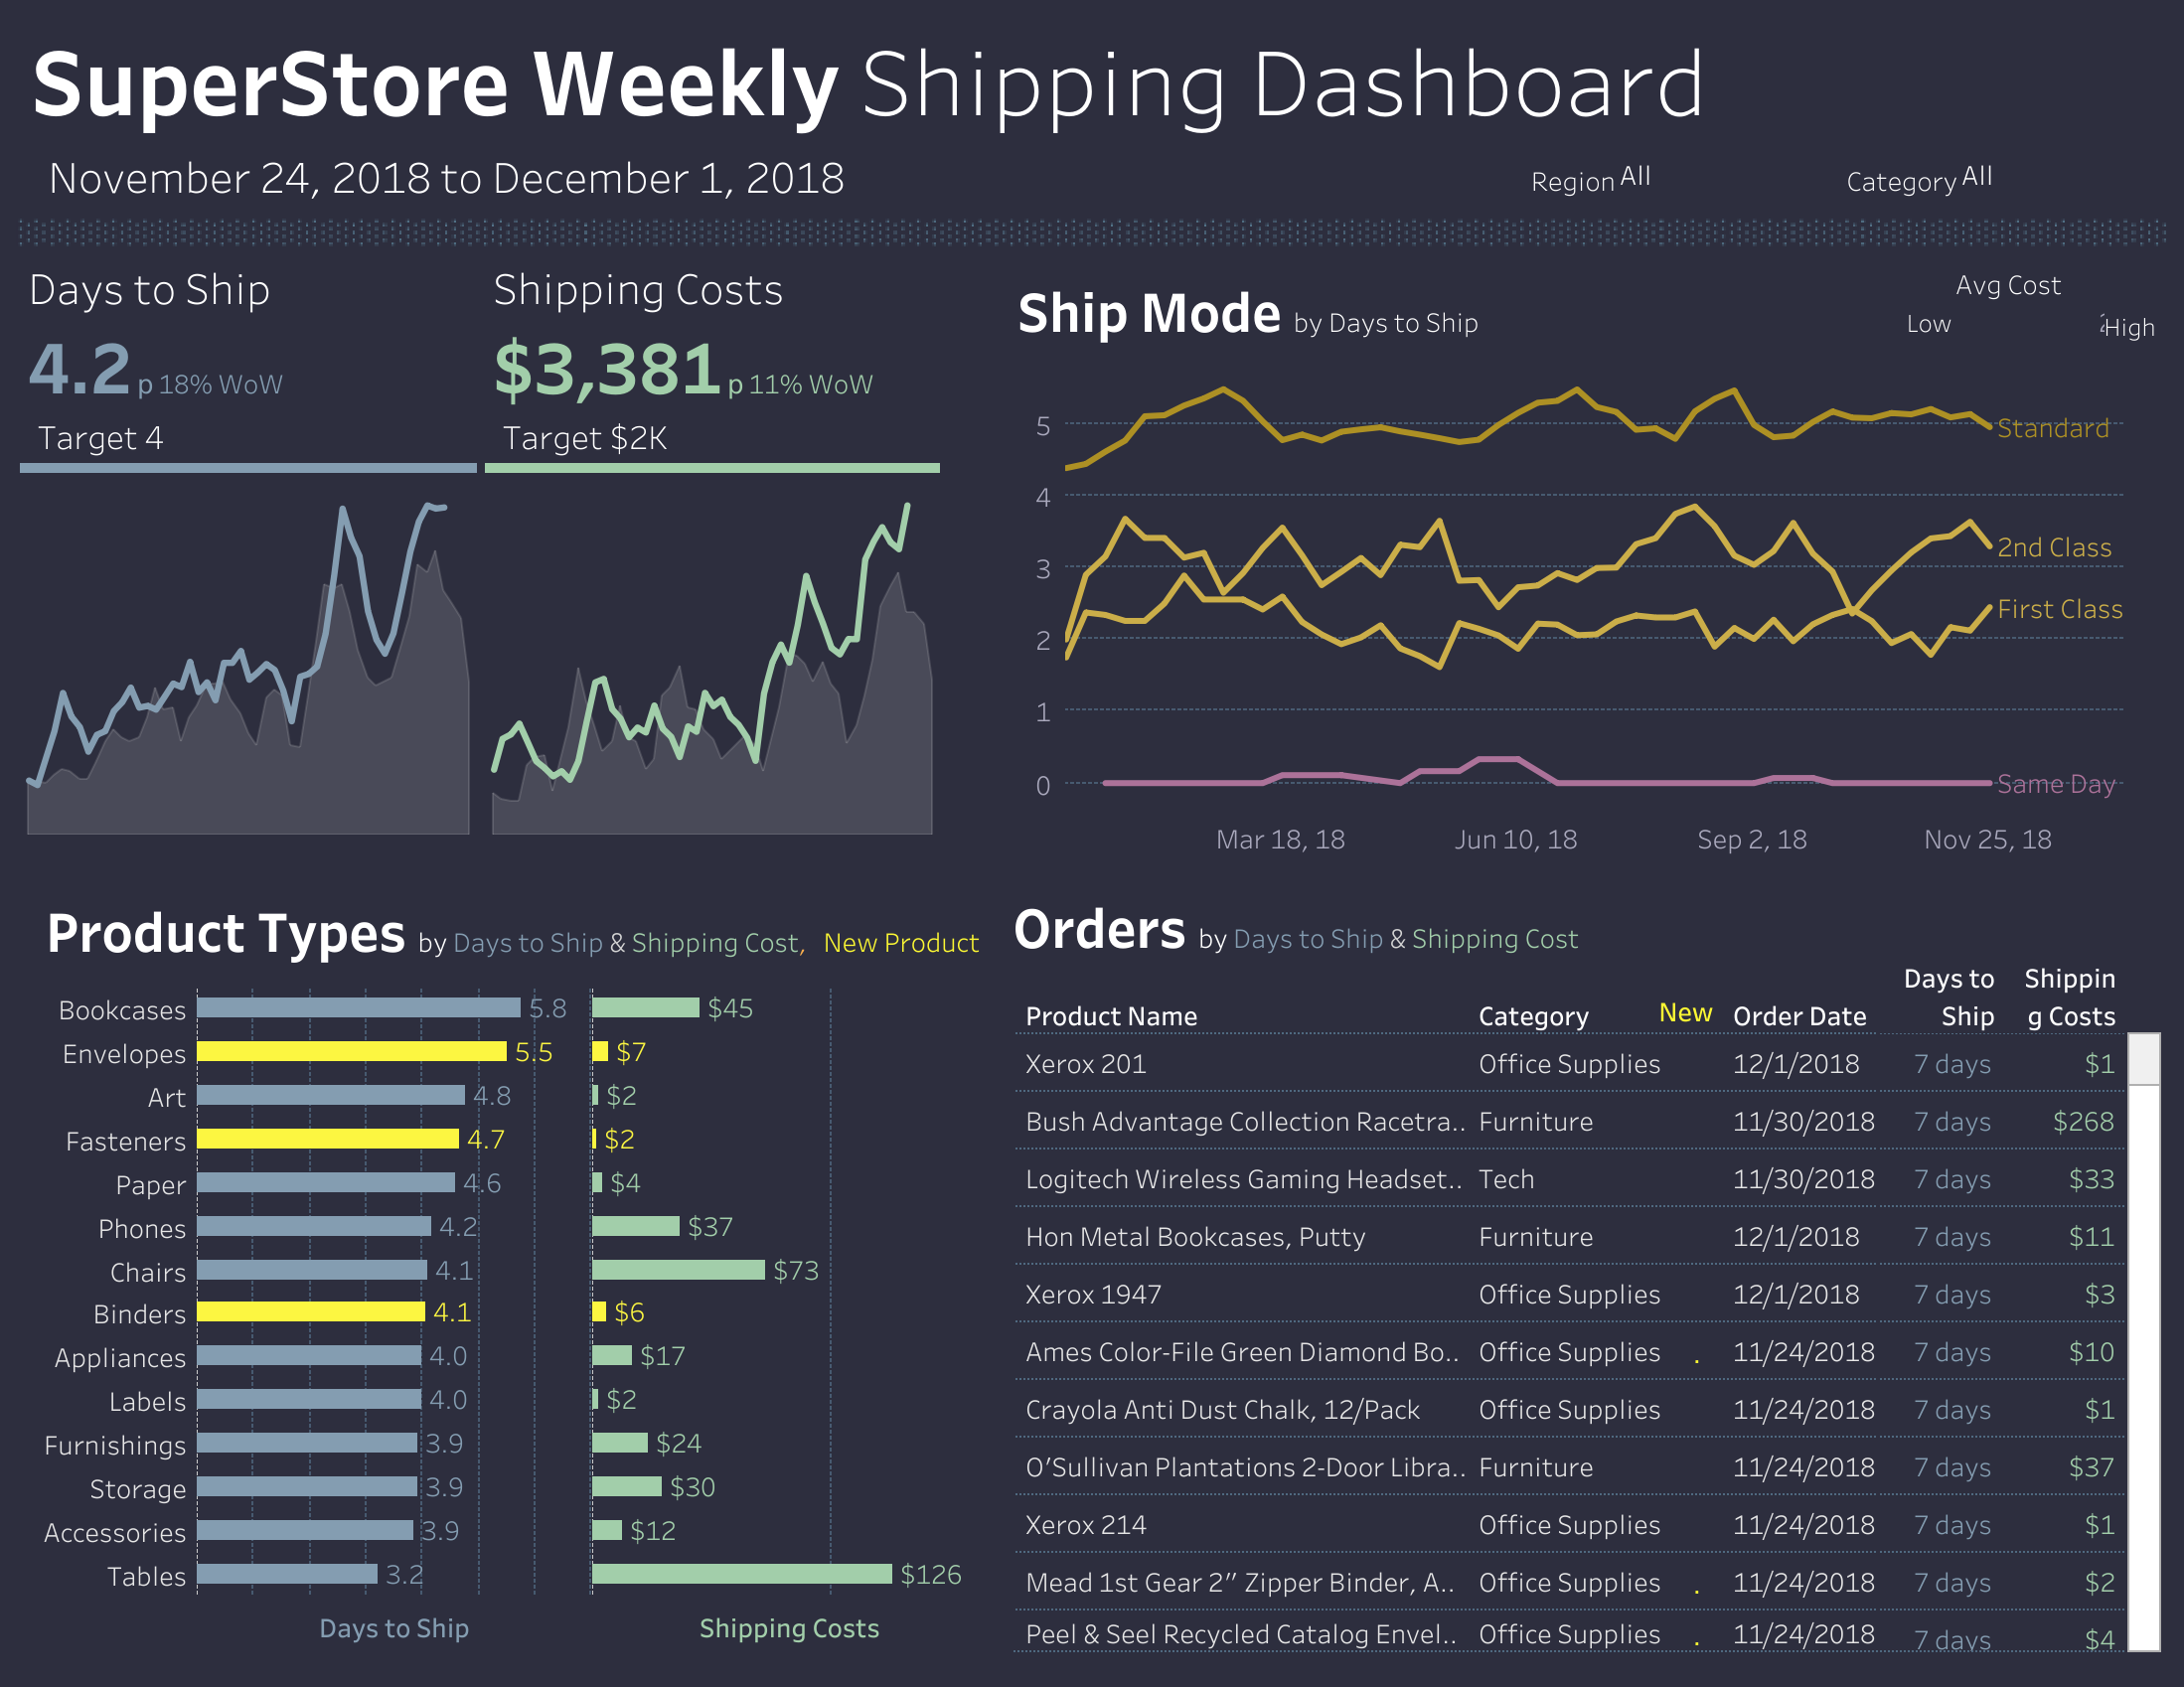

What the dashboard file says about the page in this screenshot:
{"tool":"tableau","page":{"name":"2 Top Down Dashboard","canvas":[1100,850],"ordinal":1},"visuals":[{"type":"text","box":[8,8,1084,119.2]},{"type":"worksheet","title":"Date","mark":"Automatic","box":[20,73,584,36]},{"type":"filter","title":"Days to Ship Time2","param":"[Sample - Superstore].[none:Region:nk]","box":[741,78,164,24]},{"type":"filter","title":"Days to Ship Time2","param":"[Sample - Superstore].[none:Category:nk]","box":[913,78,180,24]},{"type":"image","param":"Image/Border5.png","box":[8,110,1083,16]},{"type":"blank","box":[8,124,1086,9]},{"type":"worksheet","title":"Ship Mode","mark":"Automatic","rows":["2017 Discount (copy)"],"cols":["Order Date"],"box":[475,127.2,617,312.8]},{"type":"worksheet","title":"Discount KPI","mark":"Automatic","cols":["Calculation_122230518285139968"],"box":[10,129.2,230,108.8]},{"type":"worksheet","title":"Shipping Cost KPI2","mark":"Automatic","cols":["Calculation_122230518285139968"],"box":[244,129.2,229,108.8]},{"type":"legend","title":"Ship Mode","param":"[Sample - Superstore].[avg:Calculation_631700234606243840:qk]","box":[984,131,75,42]},{"type":"text","box":[933,149,52,26]},{"type":"text","box":[1056,153,39,21]},{"type":"worksheet","title":"Days to Ship Time2","mark":"Automatic","rows":["2017 Costs (copy)","2017 Discount (copy)"],"cols":["Order Date"],"box":[8,240,234,200]},{"type":"worksheet","title":"Shipping Cost Time2","mark":"Automatic","rows":["2017 Costs (copy 2)","2018 Costs (copy)"],"cols":["Order Date"],"box":[242,240,233,200]},{"type":"worksheet","title":"Product Sub Category","mark":"Automatic","rows":["Sub-Category"],"cols":["Calculation_713539076749619200","Costs (copy)"],"box":[8,440,497,402]},{"type":"worksheet","title":"Product Order Details","mark":"Text","rows":["Order ID","Product Name","Category","Calculation_400679646864777216","Order Date"],"box":[505,440,587,402]},{"type":"text","box":[507,444,577,44]},{"type":"text","box":[832,496,36,22]}]}

Visuals, with their boxes in screenshot pixels (x1, y1, x2, y2), scaled from the page's 1100x850 canvas onto the 2184x1687 screenshot:
text: {"left": 16, "top": 16, "right": 2168, "bottom": 252}
"Date" worksheet: {"left": 40, "top": 145, "right": 1199, "bottom": 217}
"Days to Ship Time2" filter: {"left": 1472, "top": 155, "right": 1796, "bottom": 203}
"Days to Ship Time2" filter: {"left": 1812, "top": 155, "right": 2170, "bottom": 203}
image: {"left": 16, "top": 219, "right": 2166, "bottom": 250}
blank: {"left": 16, "top": 246, "right": 2172, "bottom": 264}
"Ship Mode" worksheet: {"left": 943, "top": 252, "right": 2168, "bottom": 873}
"Discount KPI" worksheet: {"left": 20, "top": 256, "right": 477, "bottom": 472}
"Shipping Cost KPI2" worksheet: {"left": 485, "top": 256, "right": 939, "bottom": 472}
"Ship Mode" legend: {"left": 1953, "top": 260, "right": 2103, "bottom": 344}
text: {"left": 1852, "top": 296, "right": 1955, "bottom": 348}
text: {"left": 2097, "top": 304, "right": 2174, "bottom": 346}
"Days to Ship Time2" worksheet: {"left": 16, "top": 476, "right": 481, "bottom": 873}
"Shipping Cost Time2" worksheet: {"left": 481, "top": 476, "right": 943, "bottom": 873}
"Product Sub Category" worksheet: {"left": 16, "top": 873, "right": 1003, "bottom": 1671}
"Product Order Details" worksheet (Text marks): {"left": 1003, "top": 873, "right": 2168, "bottom": 1671}
text: {"left": 1007, "top": 881, "right": 2152, "bottom": 969}
text: {"left": 1651, "top": 985, "right": 1723, "bottom": 1028}
